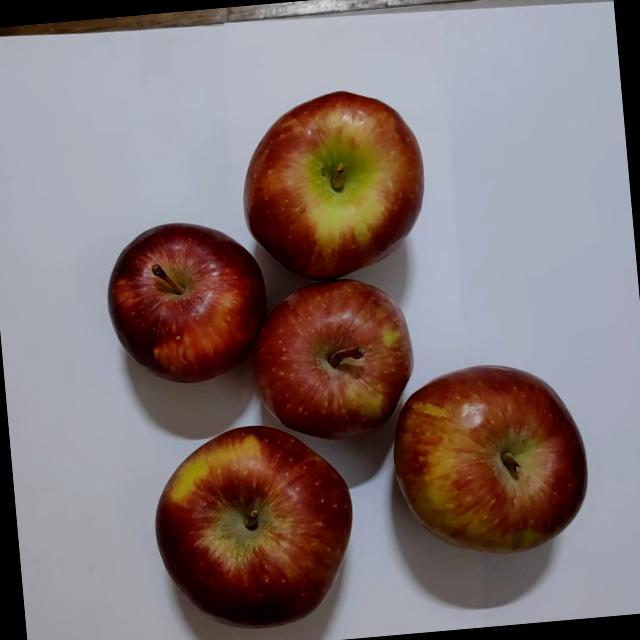apple: (133, 406, 370, 640), (376, 346, 602, 583), (228, 80, 448, 296), (242, 267, 426, 447), (100, 210, 274, 392)
